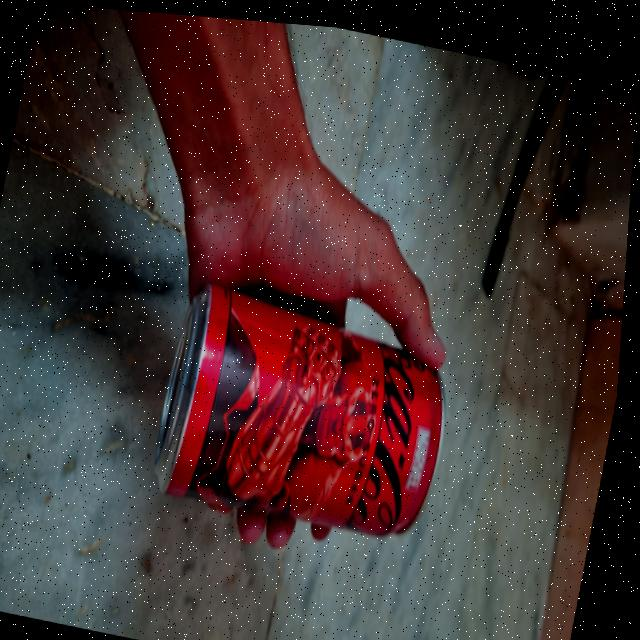Coca Cola Zero: (160, 286, 462, 542)
